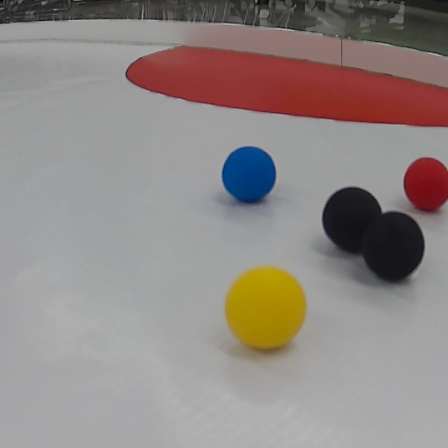black: (363, 213, 425, 282), (326, 185, 383, 251)
blue: (220, 141, 277, 202)
red: (121, 33, 448, 133), (402, 152, 448, 211)
yellow: (222, 265, 308, 352)
